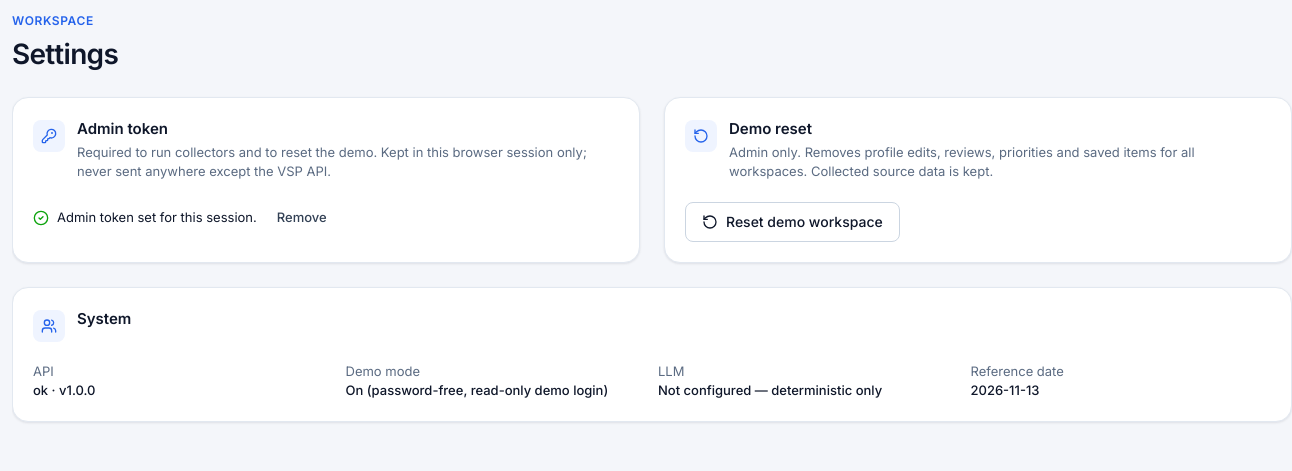
Test: Settings: demo reset is offered only to a verified admin › a verified admin can reset; the request carries the admin token
Click the button "Reset demo workspace". click: x=792, y=222
box: x1=685 y1=202 x2=900 y2=242
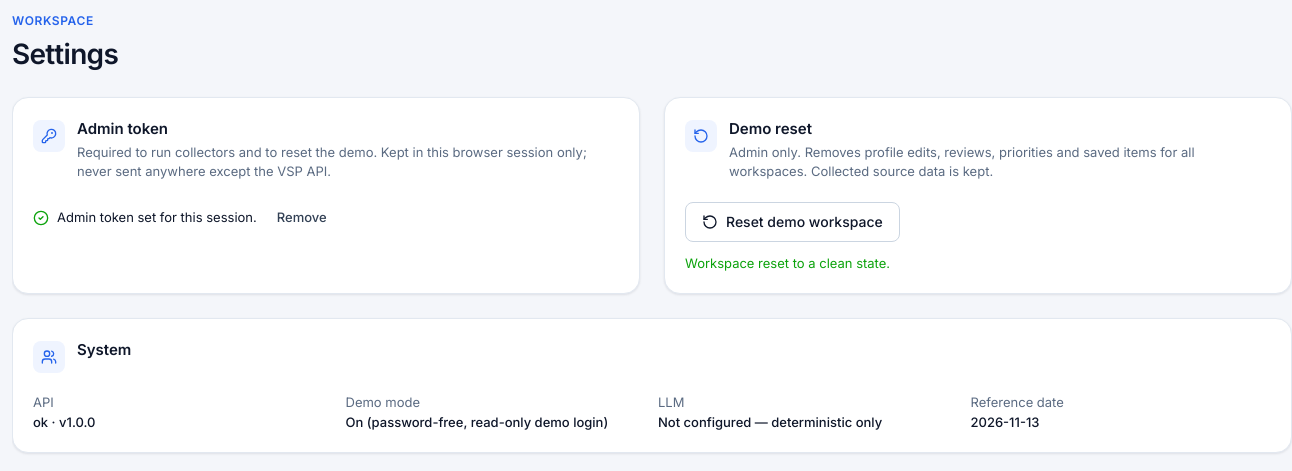
expect the text "Workspace reset to a clean state." is shown: met, box x1=685 y1=255 x2=890 y2=271
